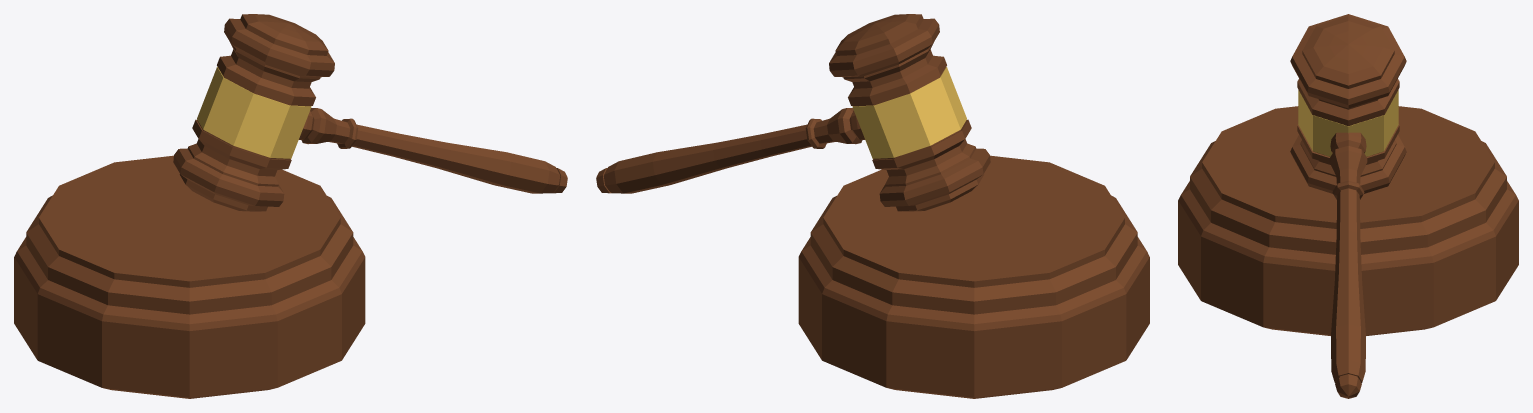
The model's file is Gavel.glb.
The picture shows the model from 3 angles, left to right: view 1: azimuth 30°, elevation 25°; view 2: azimuth 150°, elevation 25°; view 3: azimuth 270°, elevation 25°; orthographic projection. The views are drawn at different scales.
Visible parts, largest first — view 1: Node, hammer; view 2: Node, hammer; view 3: Node, hammer.
Boxes of the visible parts, <box> form: Node: <box>14,155,365,398</box>; hammer: <box>173,14,567,211</box>; Node: <box>798,155,1149,398</box>; hammer: <box>596,14,990,211</box>; Node: <box>1178,106,1518,335</box>; hammer: <box>1290,14,1406,398</box>.
Size of the model in its own units: 7.26 by 3.86 by 4.18.
